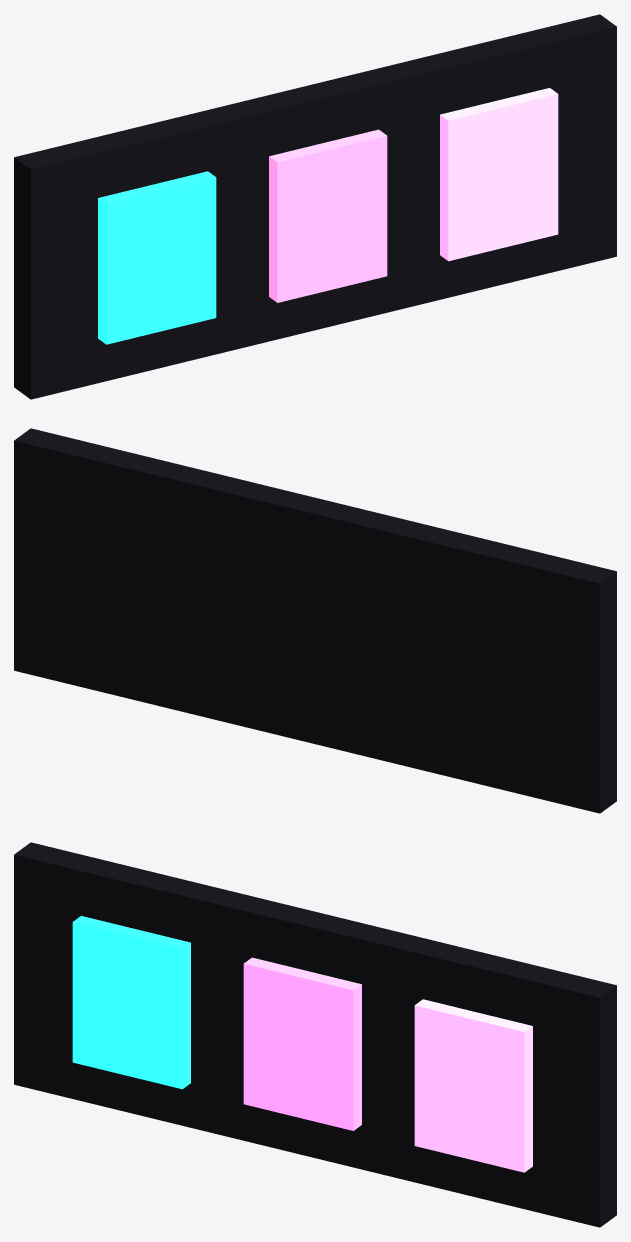
Rendered from NeonBarSign.glb.
The picture shows the model from 3 angles, top to bottom: view 1: azimuth 30°, elevation 25°; view 2: azimuth 150°, elevation 25°; view 3: azimuth 330°, elevation 25°; orthographic projection.
Parts seen in each view (by area): view 1: NeonBarSign; view 2: NeonBarSign; view 3: NeonBarSign.
Boxes of the visible parts, <box> form: NeonBarSign: <box>14,14,616,399</box>; NeonBarSign: <box>14,428,616,813</box>; NeonBarSign: <box>14,842,616,1227</box>.
Bounding box in the file's own units: 2.4 × 0.9 × 0.18.
